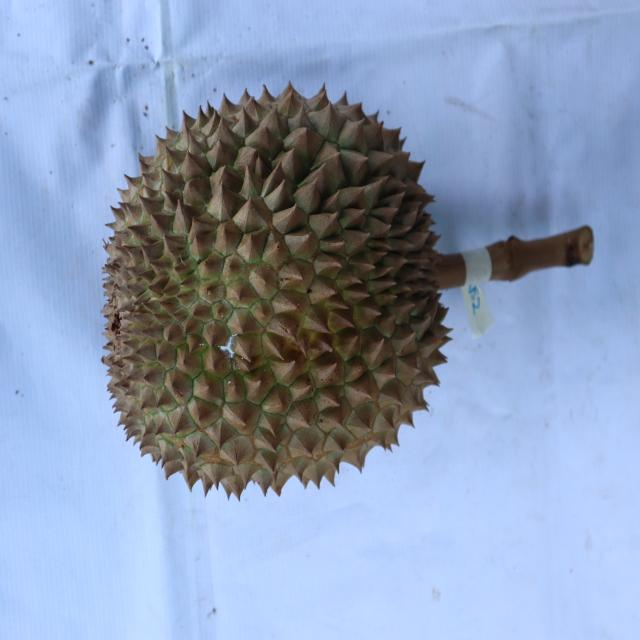mature: (102, 76, 452, 506)
